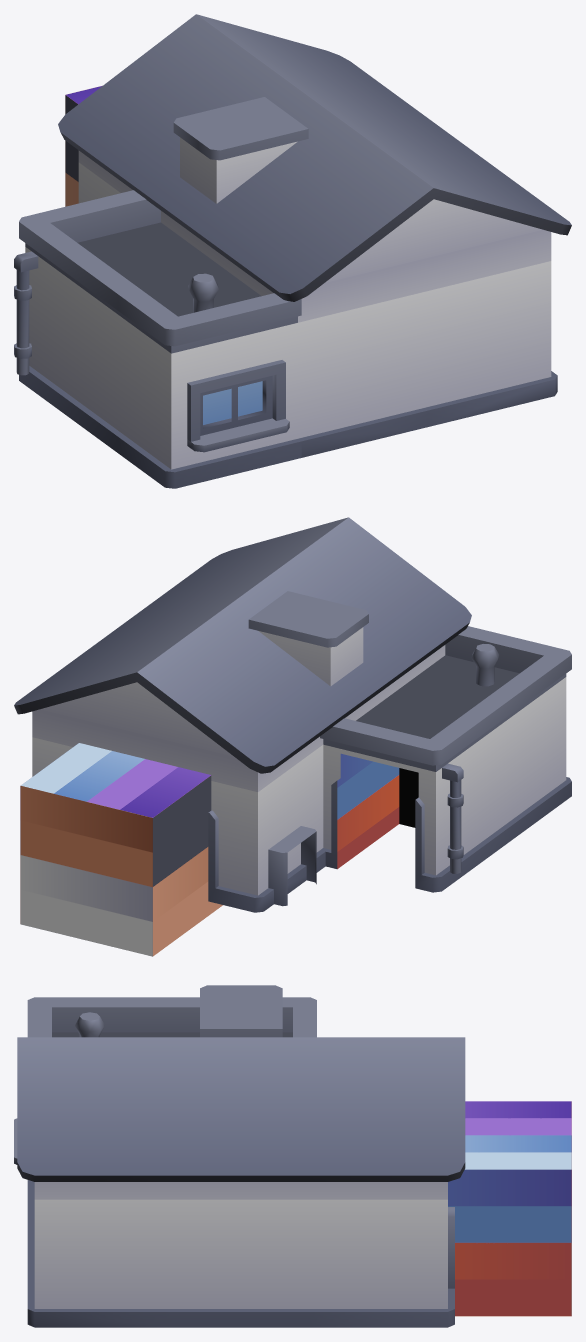
The model's file is building-h-enterable.glb.
3 views of the same model, one above another, from view 1: azimuth 30°, elevation 25°; view 2: azimuth 150°, elevation 25°; view 3: azimuth 270°, elevation 25° (orthographic). The views are drawn at different scales.
Parts seen in each view (by area): view 1: building-h-enterable; view 2: building-h-enterable; view 3: building-h-enterable.
Part boxes in pixels (bbox=[...]): building-h-enterable: bbox=[14, 14, 571, 488]; building-h-enterable: bbox=[14, 517, 571, 956]; building-h-enterable: bbox=[14, 985, 571, 1327].
Size of the model in its own units: 1.32 by 0.7835 by 1.62.
1 material, 1 textured.
